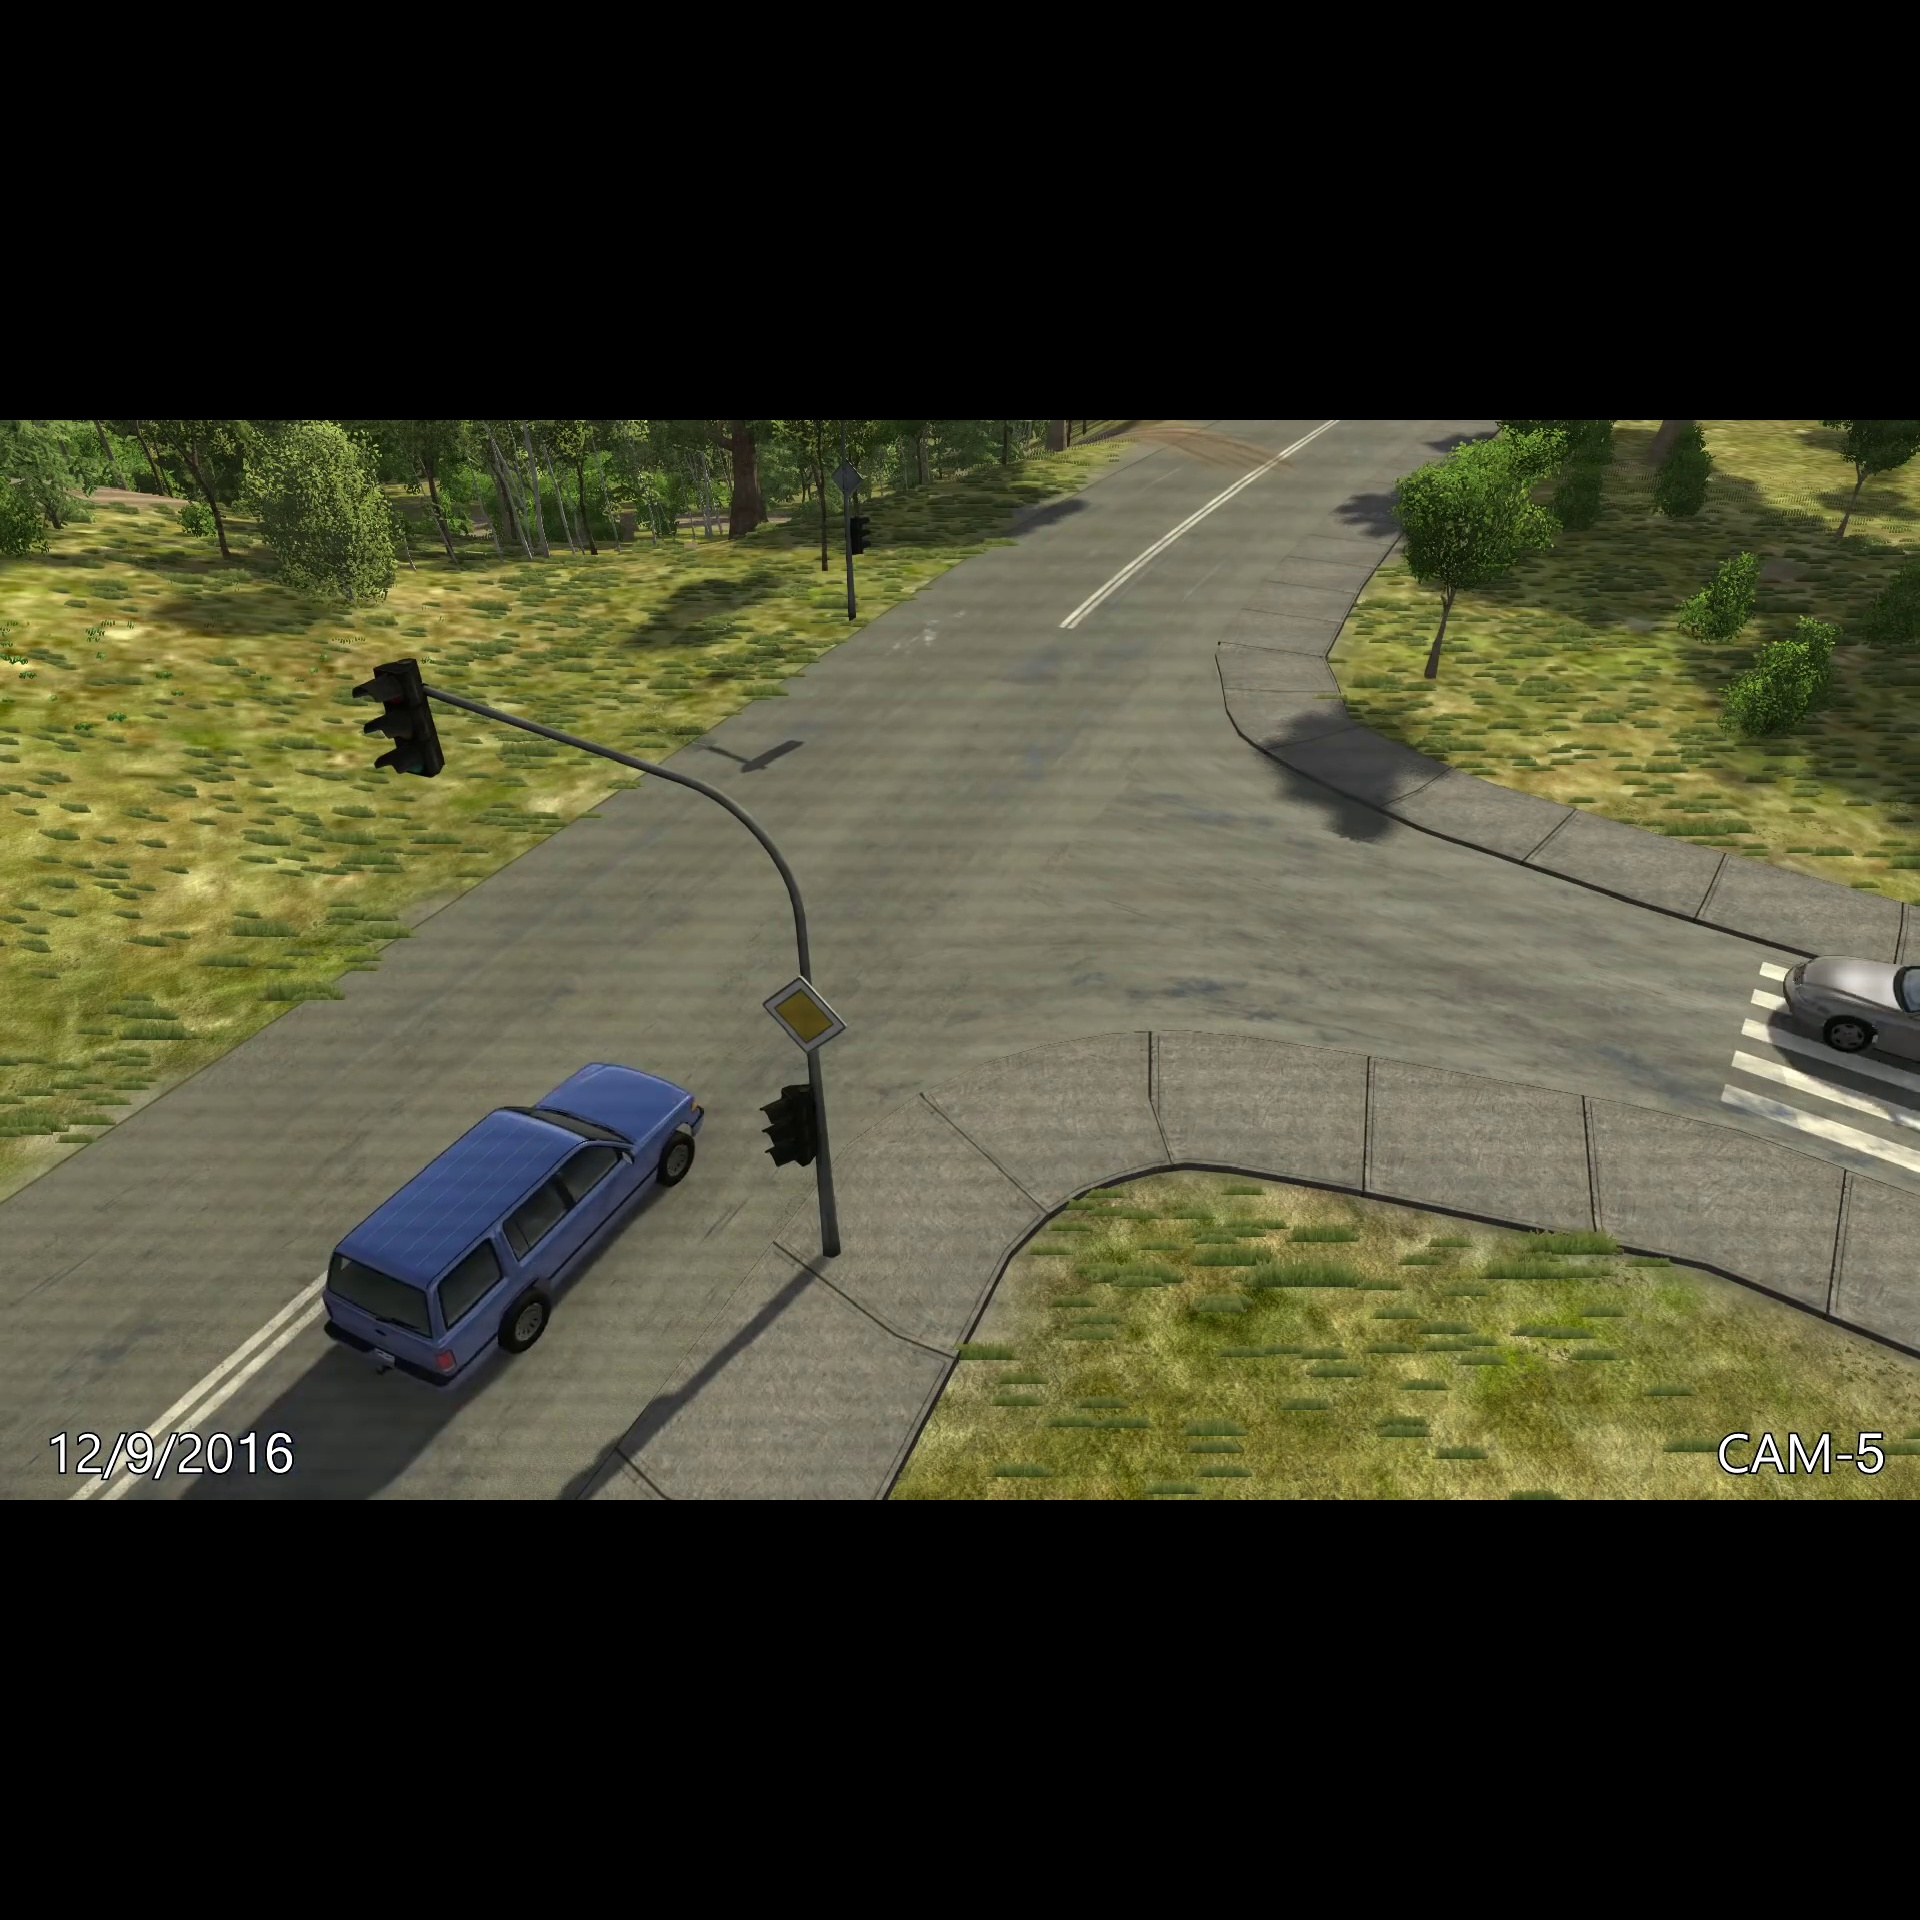vehicle: (311, 1050, 717, 1398), (1779, 935, 1920, 1069)
